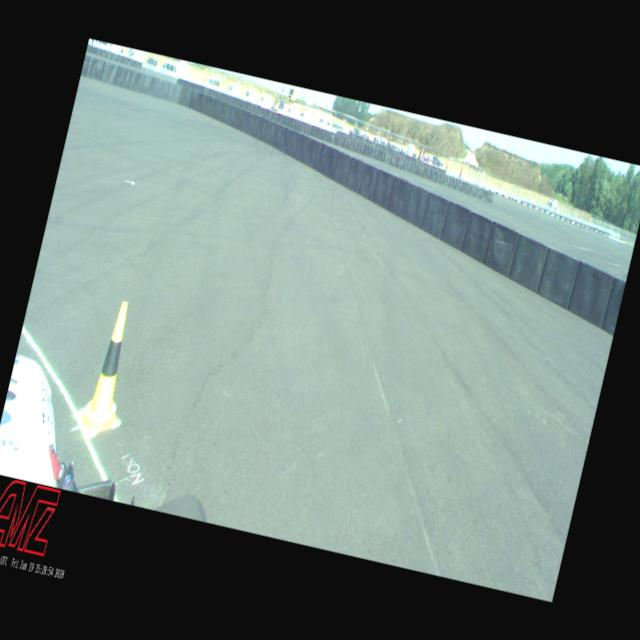yellow_cone: (74, 297, 145, 441)
